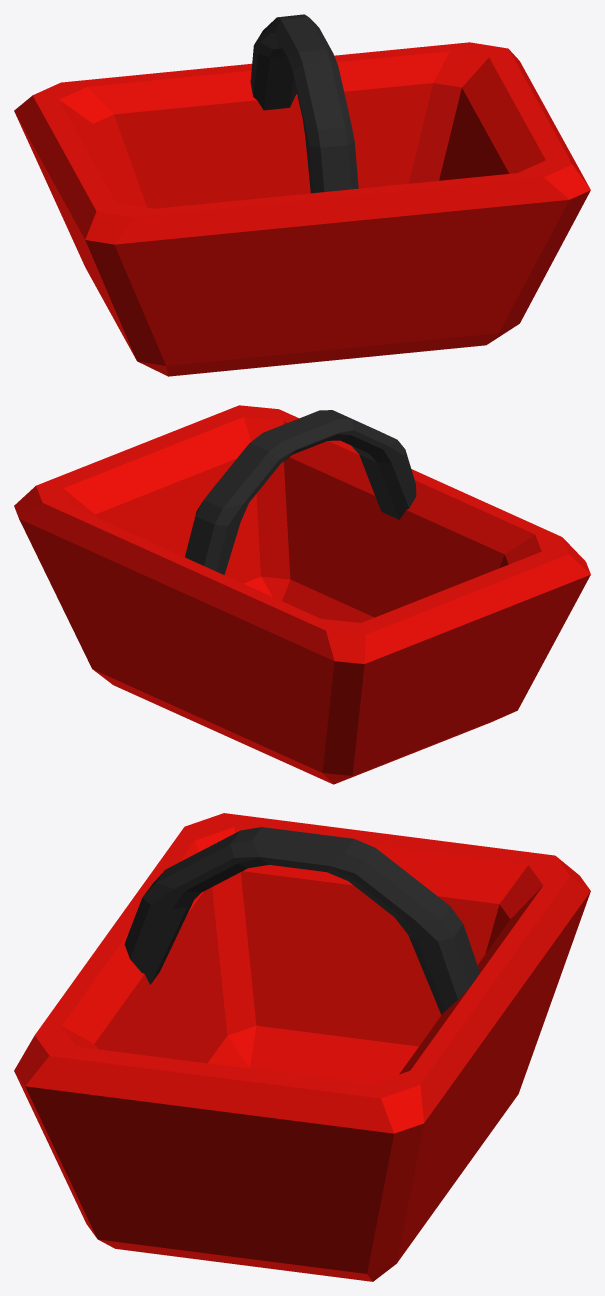
File: market_sepet.fbx
3 views of the same model, one above another, from view 1: azimuth 30°, elevation 25°; view 2: azimuth 150°, elevation 25°; view 3: azimuth 270°, elevation 25° (orthographic). The views are drawn at different scales.
Visible parts, largest first — view 1: market_sepet_1; view 2: market_sepet_1; view 3: market_sepet_1.
Boxes of the visible parts, left/top/right/bottom form: market_sepet_1: left=14, top=14, right=590, bottom=376; market_sepet_1: left=14, top=405, right=590, bottom=784; market_sepet_1: left=14, top=813, right=590, bottom=1281.
Size of the model in its own units: 391 by 206 by 312.
